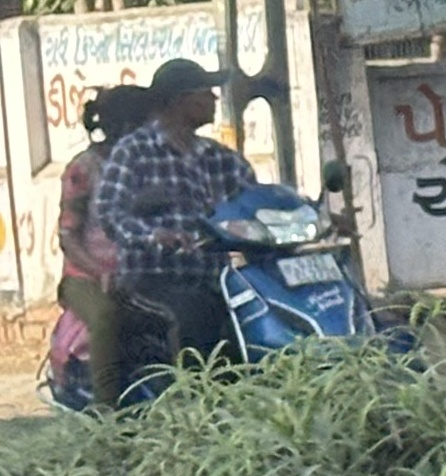BikeWithRider: (26, 51, 391, 436)
NoHelmet: (141, 53, 226, 137), (72, 78, 161, 154)
